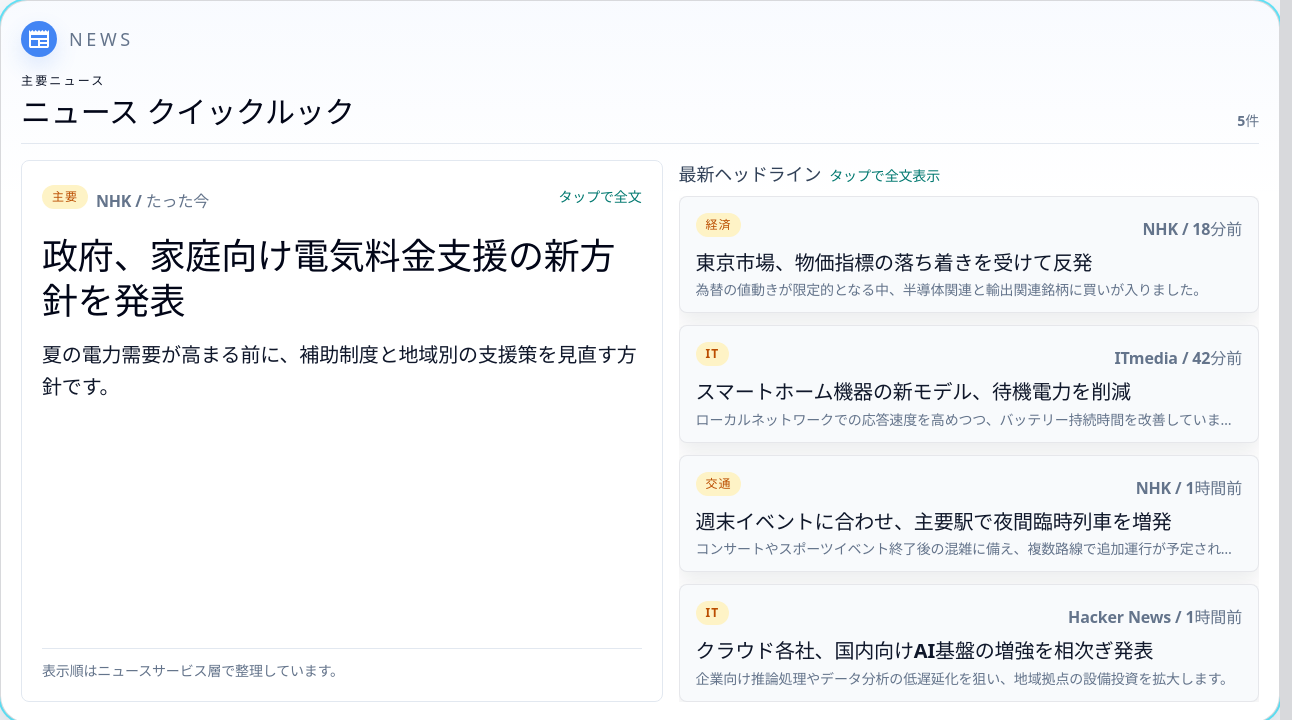
NewsWidget › full summary overlay › opens the overlay from a headline list item
This screenshot has width=1292, height=720.
Click the text "東京市場、物価指標の落ち着きを受けて反発": (894, 262) top-left (696, 248), bottom-right (1092, 276)
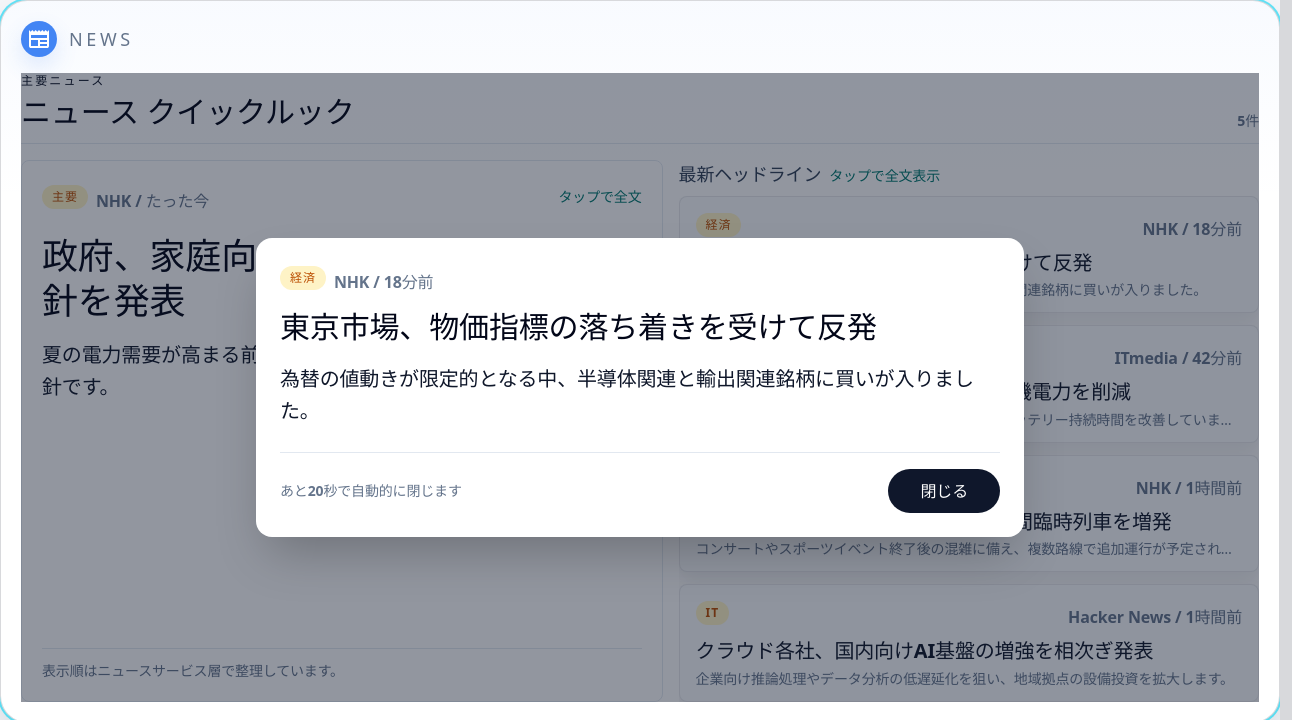
expect the button "閉じる" is shown: met, box top-left (888, 469), bottom-right (1000, 513)
